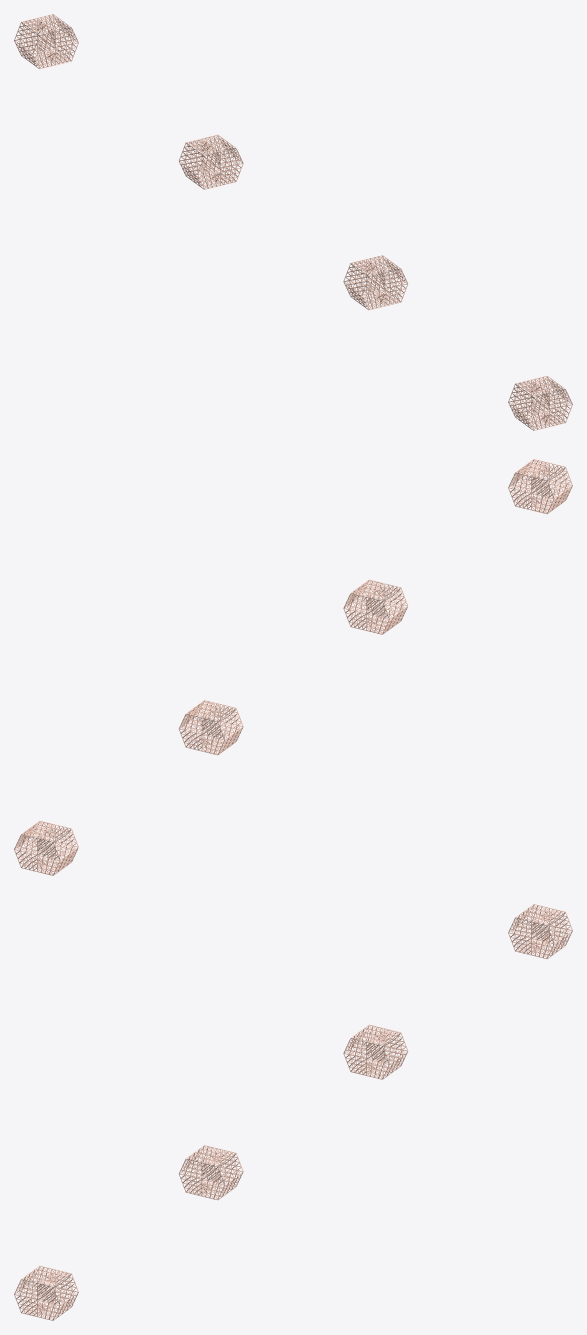
Rendered from loop0-006.glb.
The picture shows the model from 3 angles, top to bottom: view 1: azimuth 30°, elevation 25°; view 2: azimuth 150°, elevation 25°; view 3: azimuth 330°, elevation 25°; orthographic projection.
Visible parts, largest first — view 1: loop0.006; view 2: loop0.006; view 3: loop0.006.
Part boxes in pixels (<box>): loop0.006: <box>14,14,572,430</box>; loop0.006: <box>14,459,572,875</box>; loop0.006: <box>14,904,572,1320</box>.
Bounding box in the file's own units: 2.92 × 2.04 × 55.77.
Materials: 1 (1 with a texture image).
